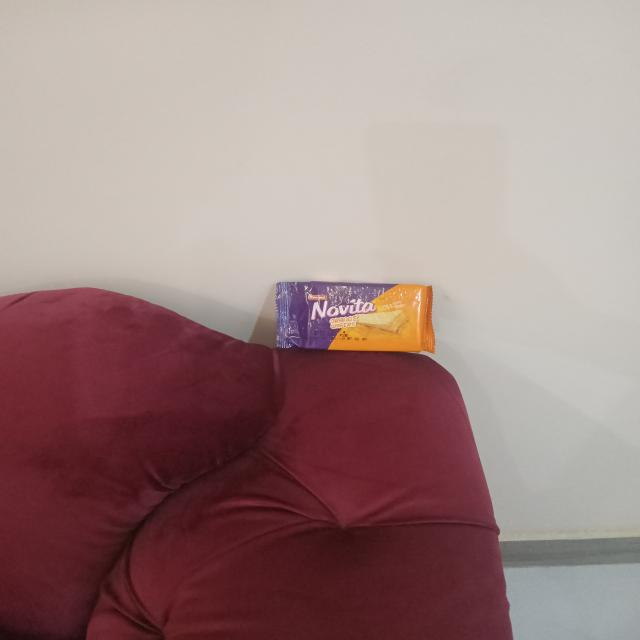Plastic: (279, 278, 435, 351)
